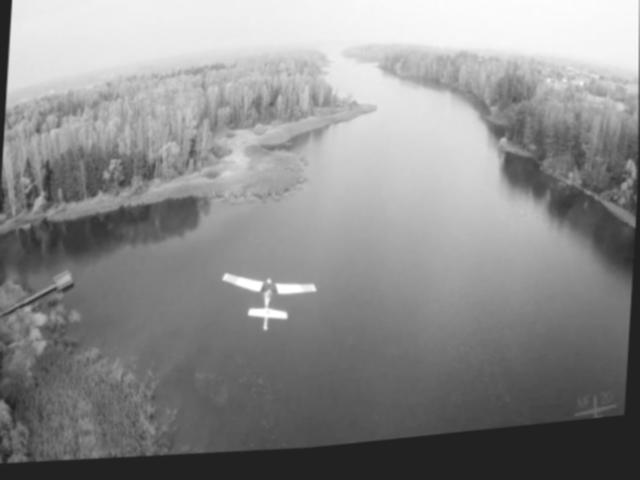hedef: (213, 265, 317, 338)
